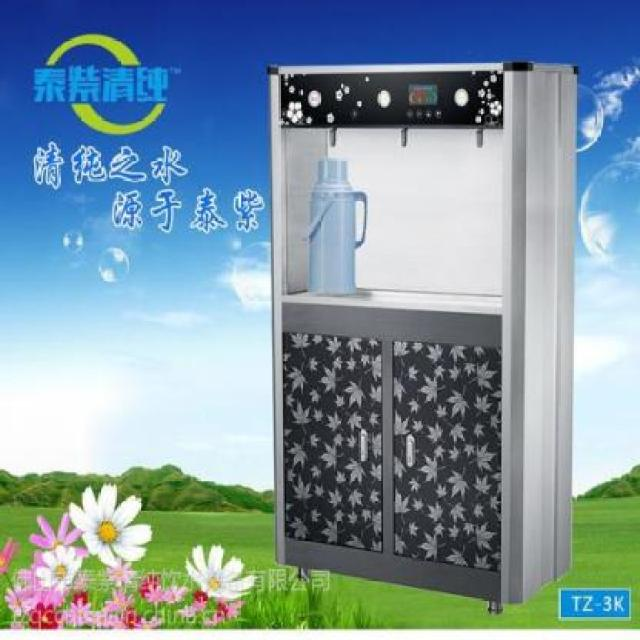cooler: (261, 55, 587, 616)
